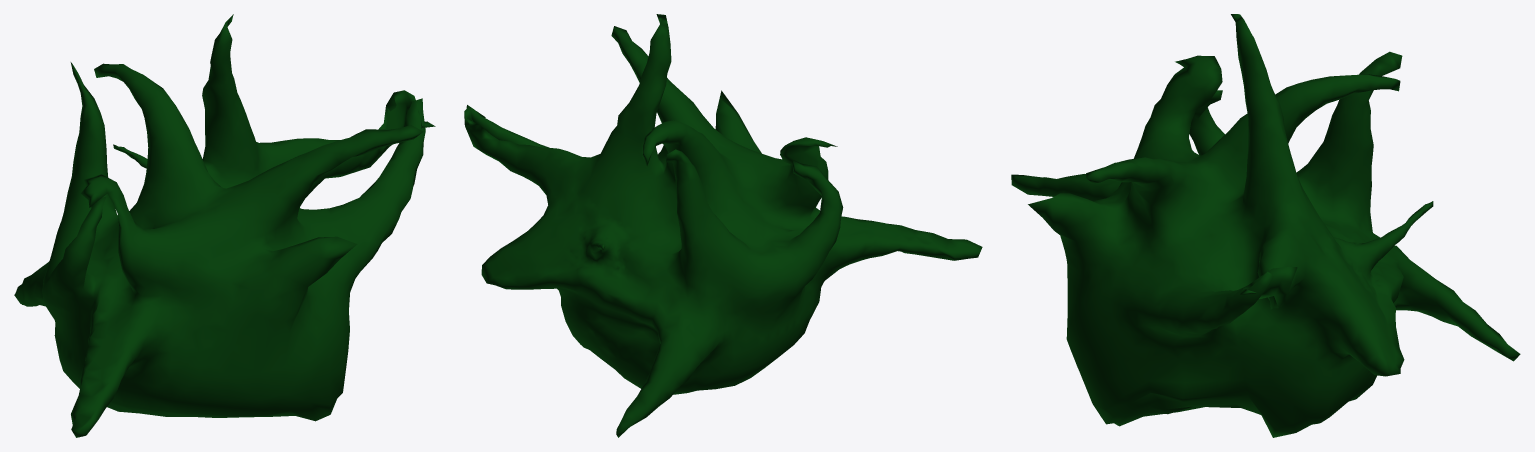
Rendered from jump_cthulhu_0020.obj.
3 renders of one model, left to right at view 1: azimuth 30°, elevation 25°; view 2: azimuth 150°, elevation 25°; view 3: azimuth 270°, elevation 25°, orthographic. The views are drawn at different scales.
Parts seen in each view (by area): view 1: Cube; view 2: Cube; view 3: Cube.
Part boxes in pixels (left/top/right/bottom): Cube: left=14, top=14, right=435, bottom=437; Cube: left=464, top=14, right=982, bottom=437; Cube: left=1011, top=14, right=1520, bottom=437.
Size of the model in its own units: 1.21 by 0.9425 by 1.07.
